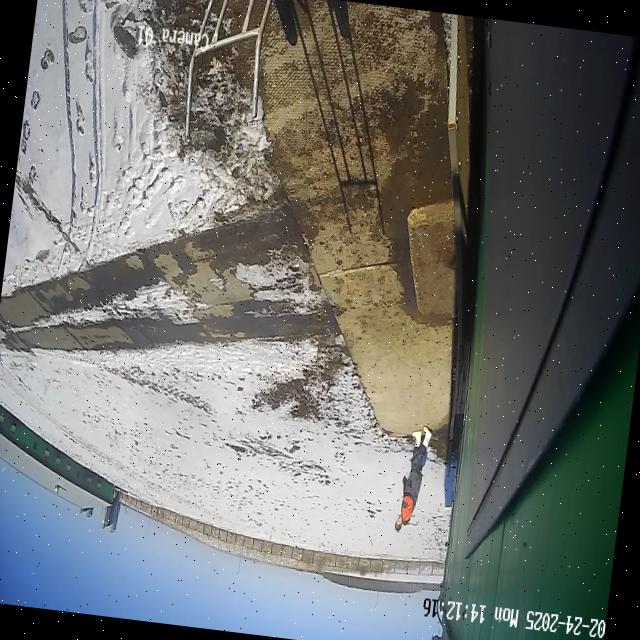Red uniform: (394, 425, 432, 532)
